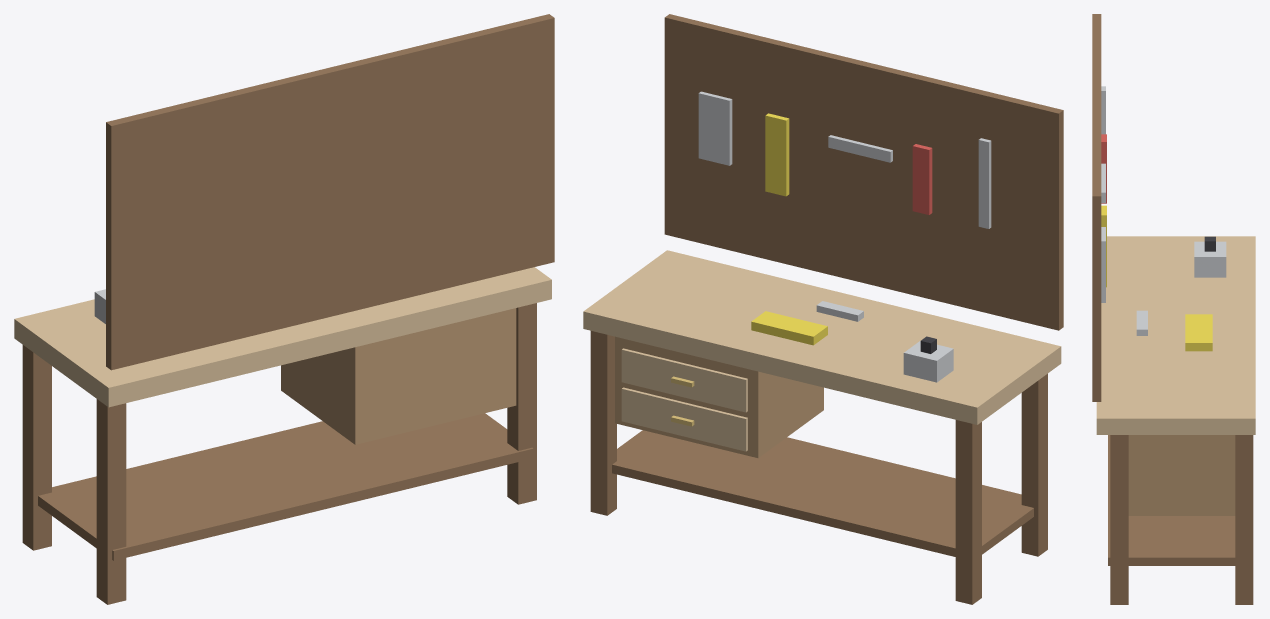
Rendered from workbench.glb.
The picture shows the model from 3 angles, left to right: view 1: azimuth 30°, elevation 25°; view 2: azimuth 150°, elevation 25°; view 3: azimuth 270°, elevation 25°; orthographic projection. The views are drawn at different scales.
Parts seen in each view (by area): view 1: workbench; view 2: workbench; view 3: workbench.
Boxes of the visible parts, box(x1,y1,x2,y2) form: workbench: box(14, 14, 554, 604); workbench: box(583, 14, 1063, 604); workbench: box(1092, 14, 1255, 604).
Size of the model in its own units: 1.9 by 2 by 0.72.
